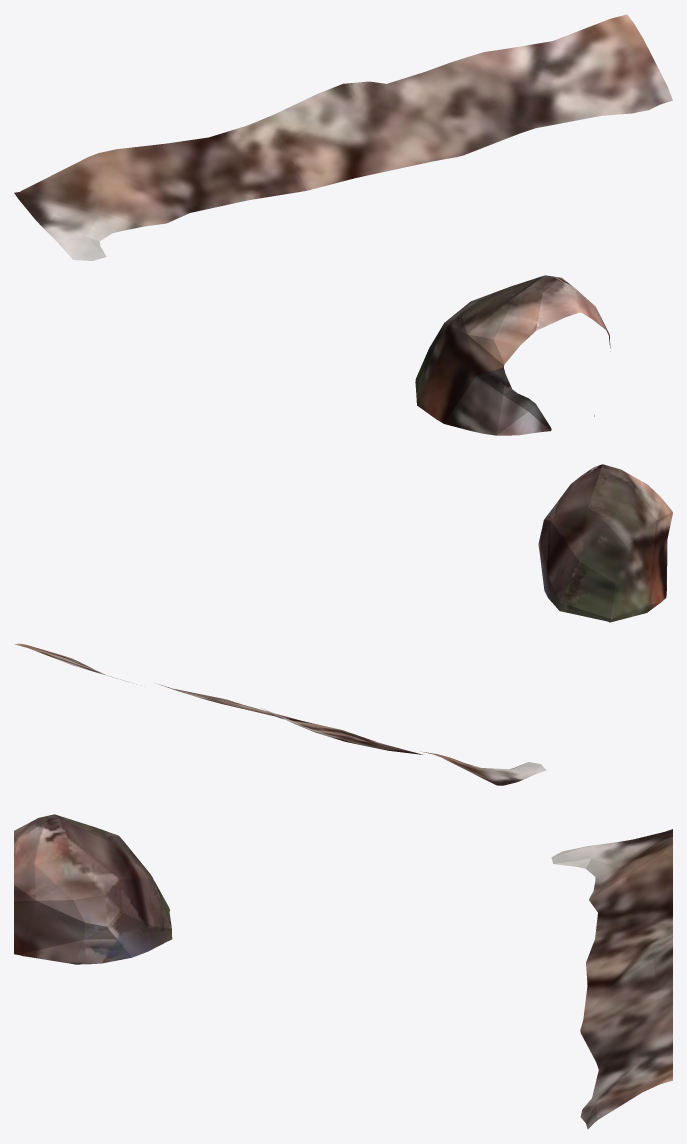
3 views of the same model, one above another, from view 1: azimuth 30°, elevation 25°; view 2: azimuth 150°, elevation 25°; view 3: azimuth 270°, elevation 25° (orthographic). The views are drawn at different scales.
Size of the model in its own units: 0.8373 by 0.174 by 0.8373.
1 material, 1 textured.
